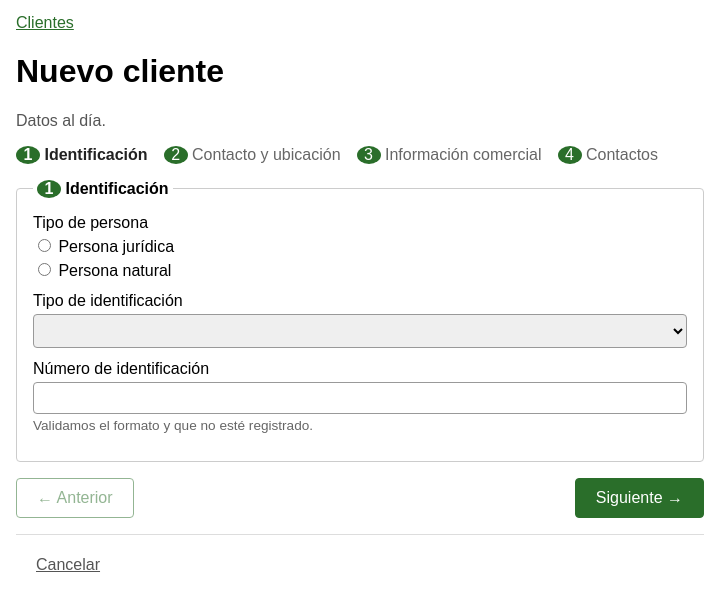
Test: CustomerNewComponent (/nuevo-prospecto) › Número de identificación › fld_10bed3f3b1:custom-2 — una cédula que no tiene 10 dígitos dice «La cédula debe tener 10 dígitos.»
Select "Cédula" in the dropdown labelled "Tipo de identificación" at [360, 331], box [33,314,687,348]
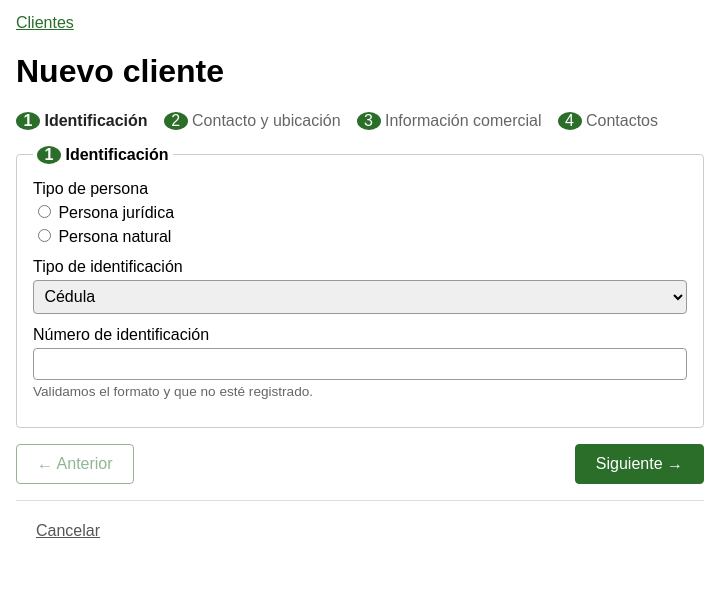
Type "091234" into the field with id "idNumber" at [360, 364], box [33,348,687,380]
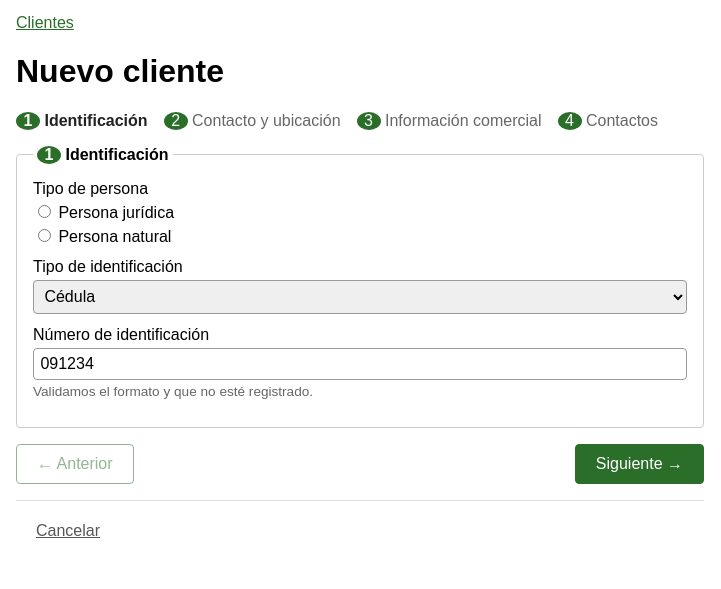
Leave the field with id "idNumber", box [33,348,687,380]
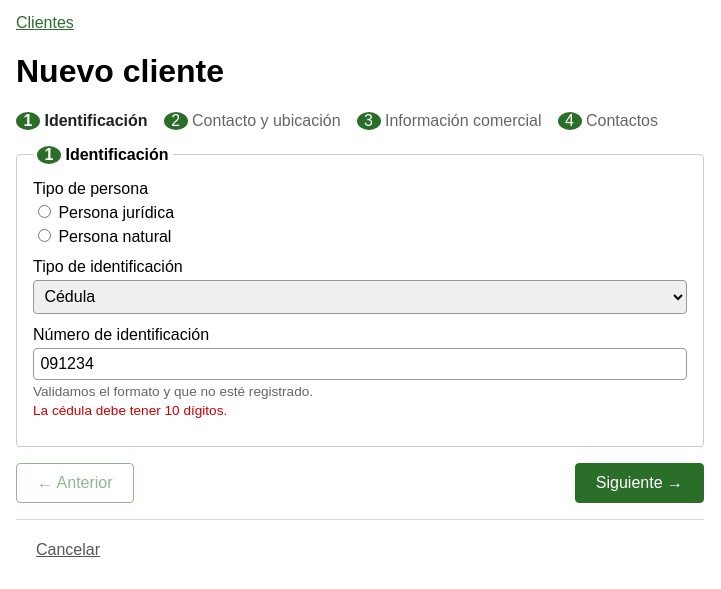
Expected: the text with id "err-idNumber" reads "La cédula debe tener 10 dígitos.", [33,403,227,418]
Replace the text in the field with id "idNumber" with "09123 45678" at [360, 364], box [33,348,687,380]
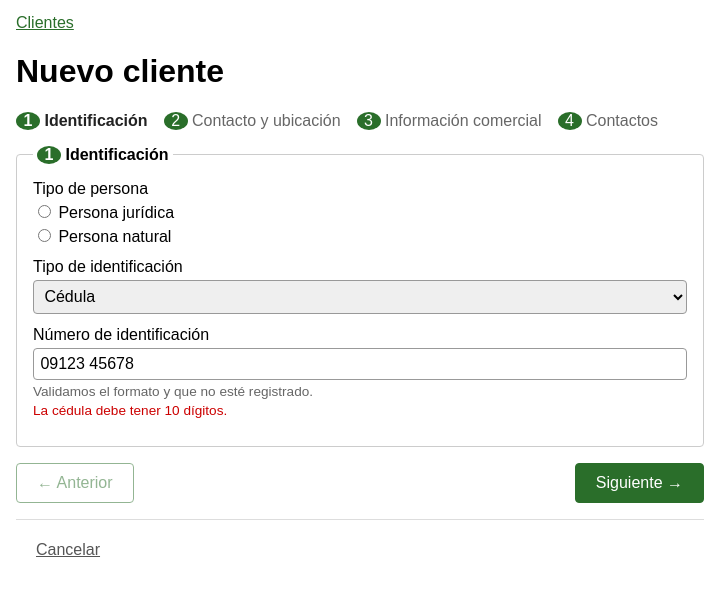
Leave the field with id "idNumber", box [33,348,687,380]
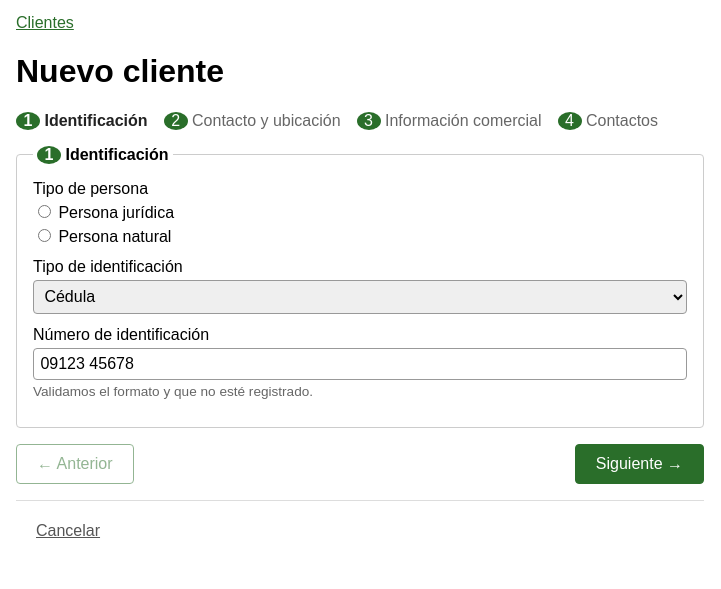
Expected: the text with id "err-idNumber" is gone
